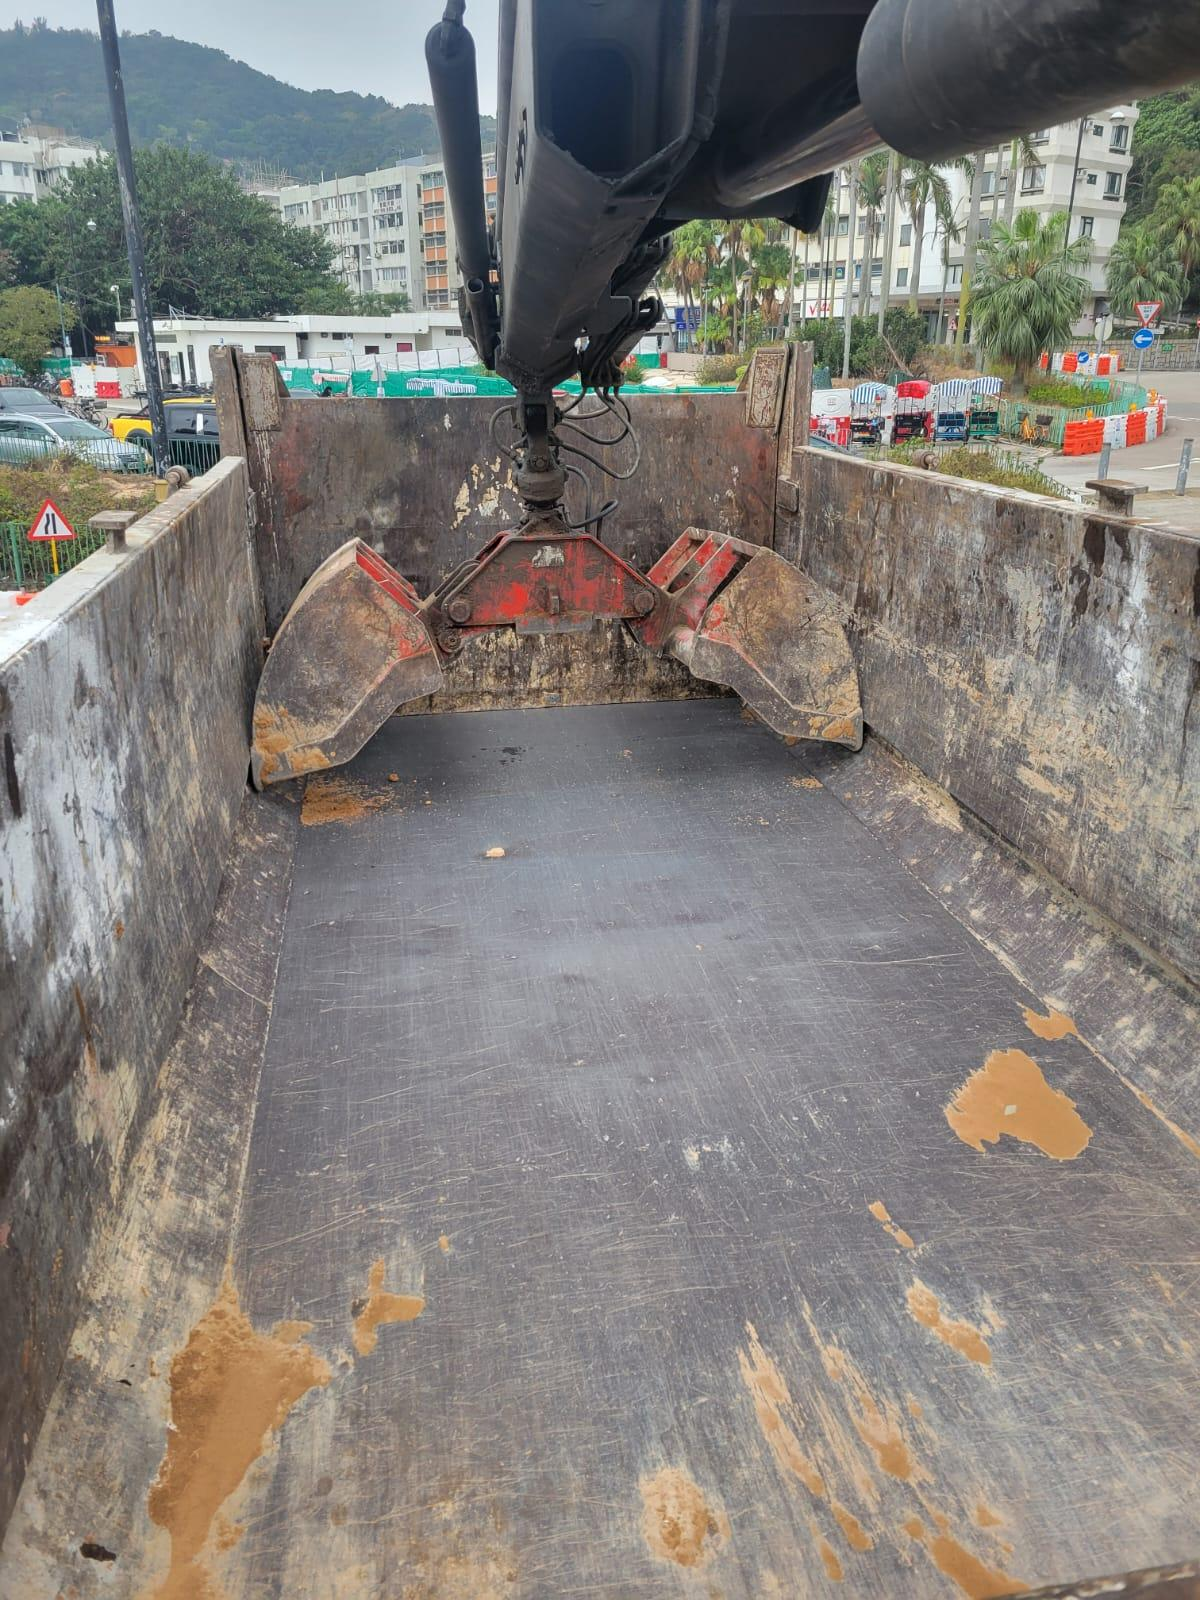nothing: (221, 700, 1200, 1597)
